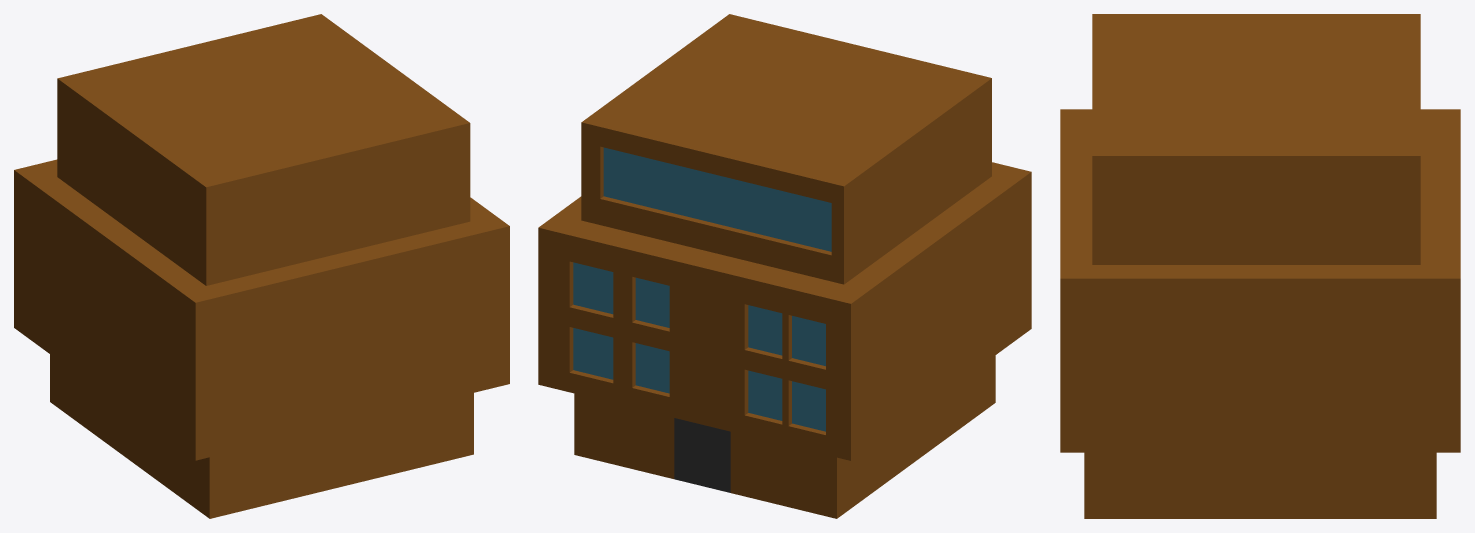
Rendered from building3.obj.
3 views of the same model, side by side, from view 1: azimuth 30°, elevation 25°; view 2: azimuth 150°, elevation 25°; view 3: azimuth 270°, elevation 25° (orthographic). The views are drawn at different scales.
Size of the model in its own units: 5 by 5 by 5.
1 material, 1 textured.
